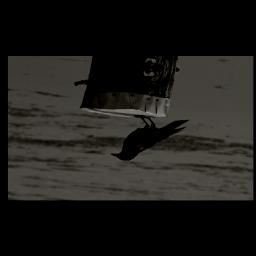Crow: (108, 111, 192, 168)
